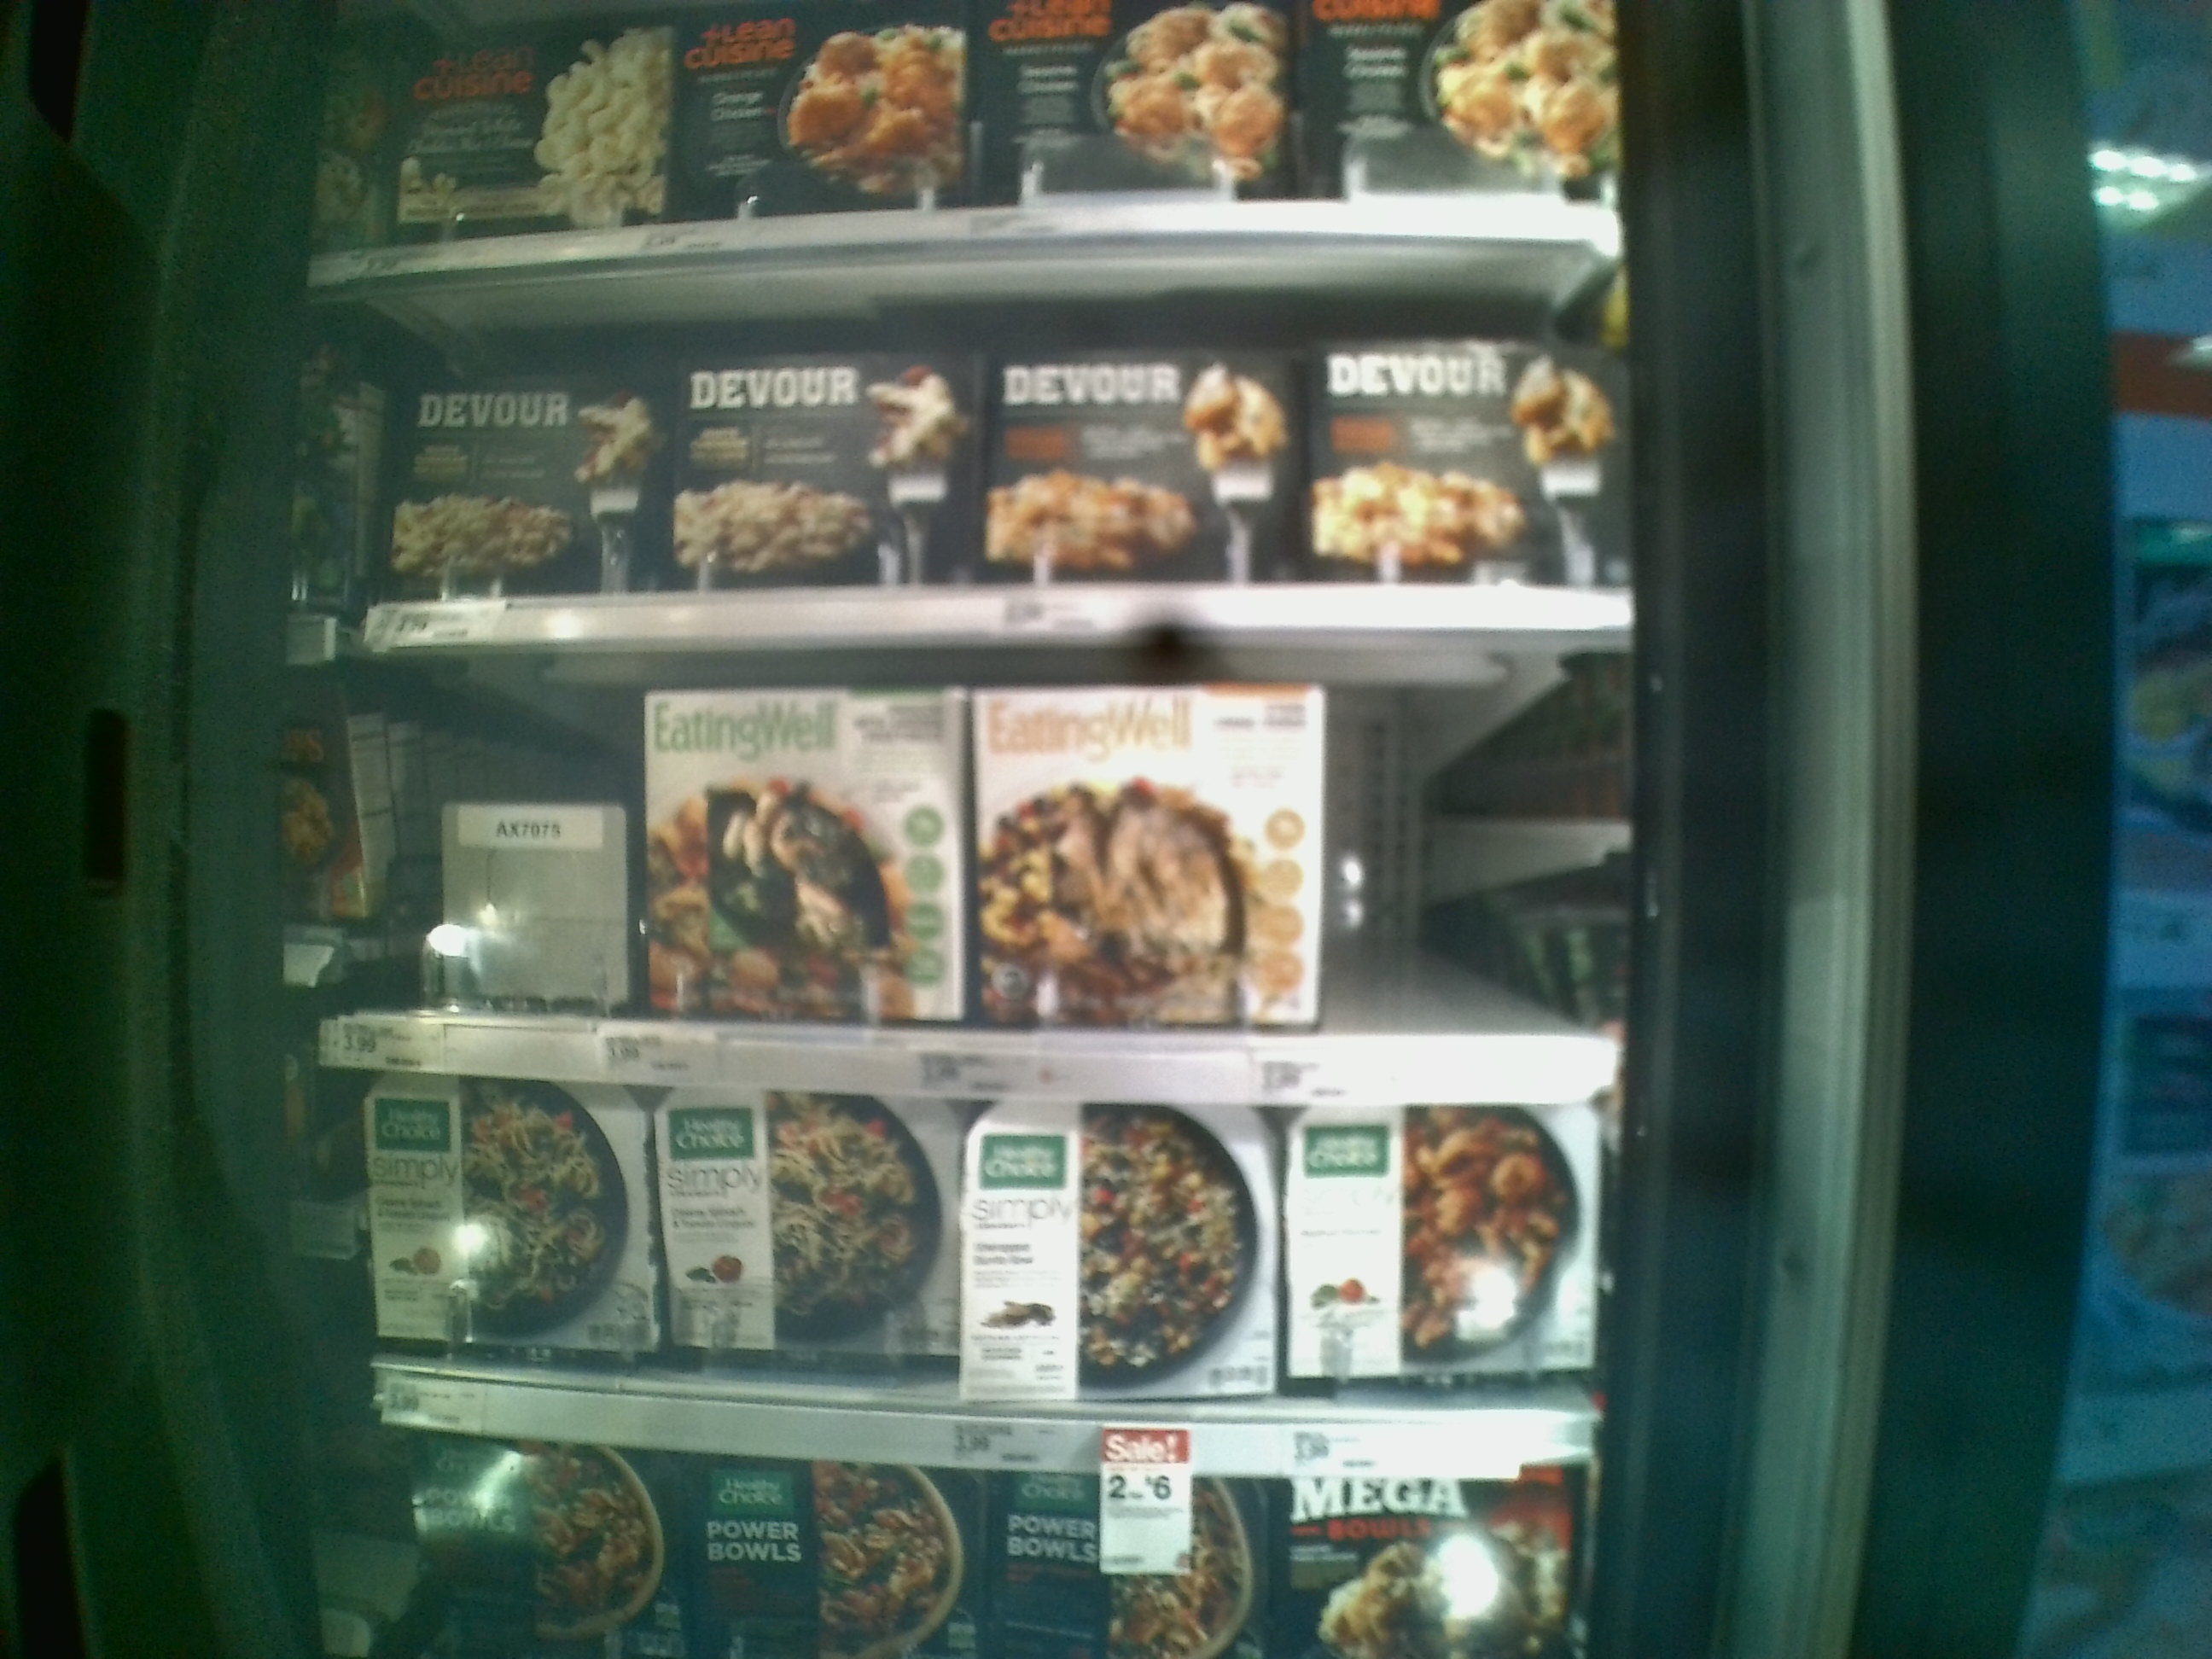shelf: (320, 627, 1634, 1093), (329, 242, 1635, 659), (341, 1063, 1634, 1476)
